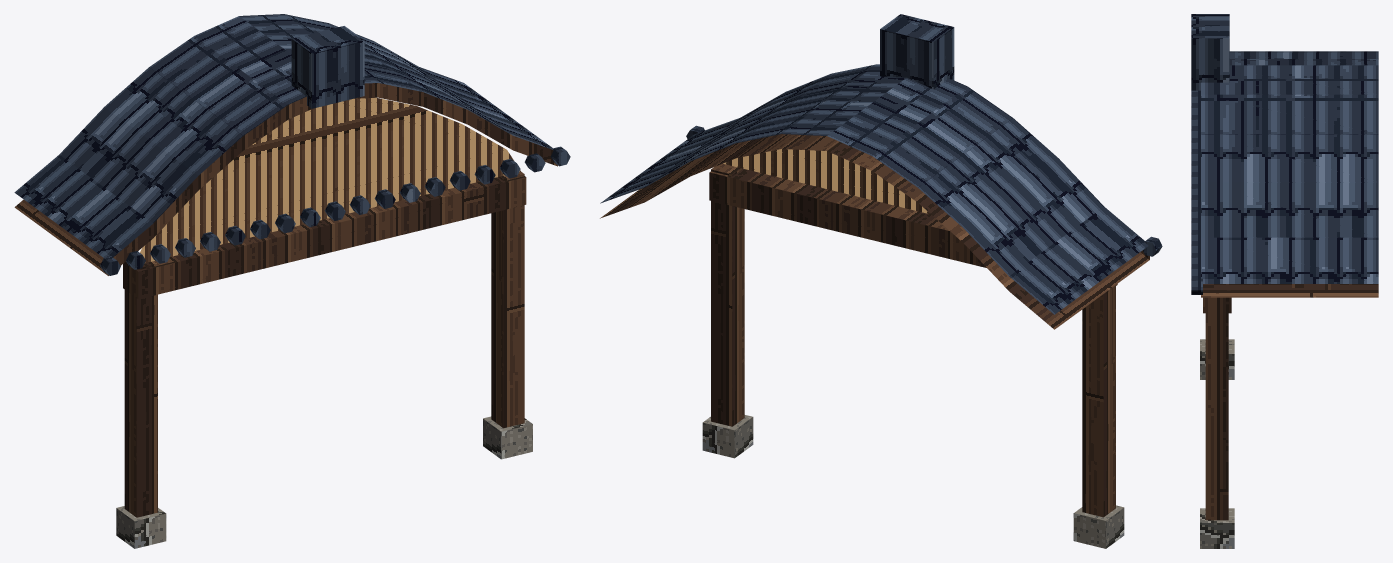
The model's file is JP_Gable_Cusped.glb.
The picture shows the model from 3 angles, left to right: view 1: azimuth 30°, elevation 25°; view 2: azimuth 150°, elevation 25°; view 3: azimuth 270°, elevation 25°; orthographic projection. The views are drawn at different scales.
Parts seen in each view (by area): view 1: JP_Gable_Cusped; view 2: JP_Gable_Cusped; view 3: JP_Gable_Cusped.
Part boxes in pixels (x1=…): JP_Gable_Cusped: x1=14, y1=14, x2=570, y2=548; JP_Gable_Cusped: x1=600, y1=14, x2=1162, y2=548; JP_Gable_Cusped: x1=1191, y1=14, x2=1378, y2=548.
Bounding box in the file's own units: 5.27 × 4.95 × 1.95.
4 materials, 4 textured.
